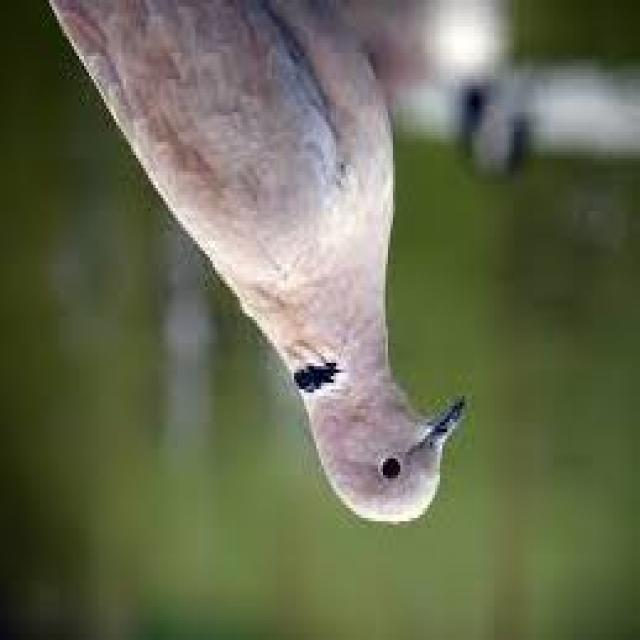pigeon: (41, 0, 472, 526)
